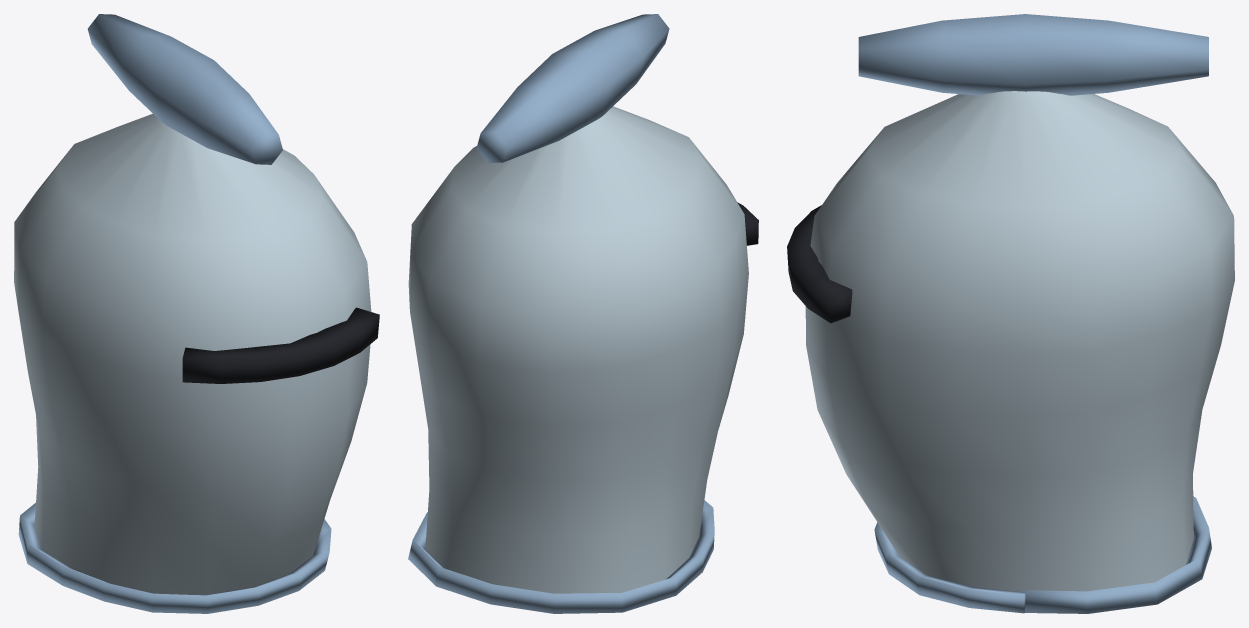
File: platinum_armor_head.glb
3 renders of one model, left to right at view 1: azimuth 30°, elevation 25°; view 2: azimuth 150°, elevation 25°; view 3: azimuth 270°, elevation 25°, orthographic. The views are drawn at different scales.
Visible parts, largest first — view 1: platinum_armor_head; view 2: platinum_armor_head; view 3: platinum_armor_head.
Boxes of the visible parts, bbox=[...] form: platinum_armor_head: bbox=[14, 14, 379, 613]; platinum_armor_head: bbox=[408, 14, 758, 613]; platinum_armor_head: bbox=[787, 14, 1234, 613].
Bounding box in the file's own units: 0.215 × 0.3521 × 0.2687.
